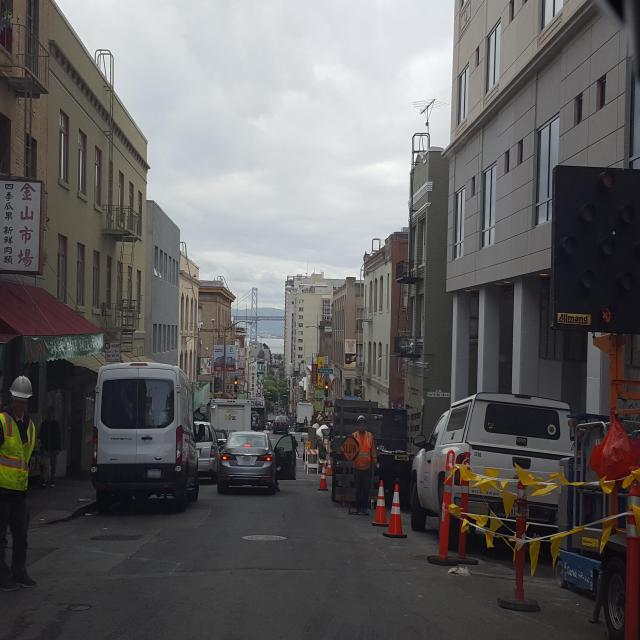Good: (86, 528, 146, 546), (240, 527, 288, 546)
